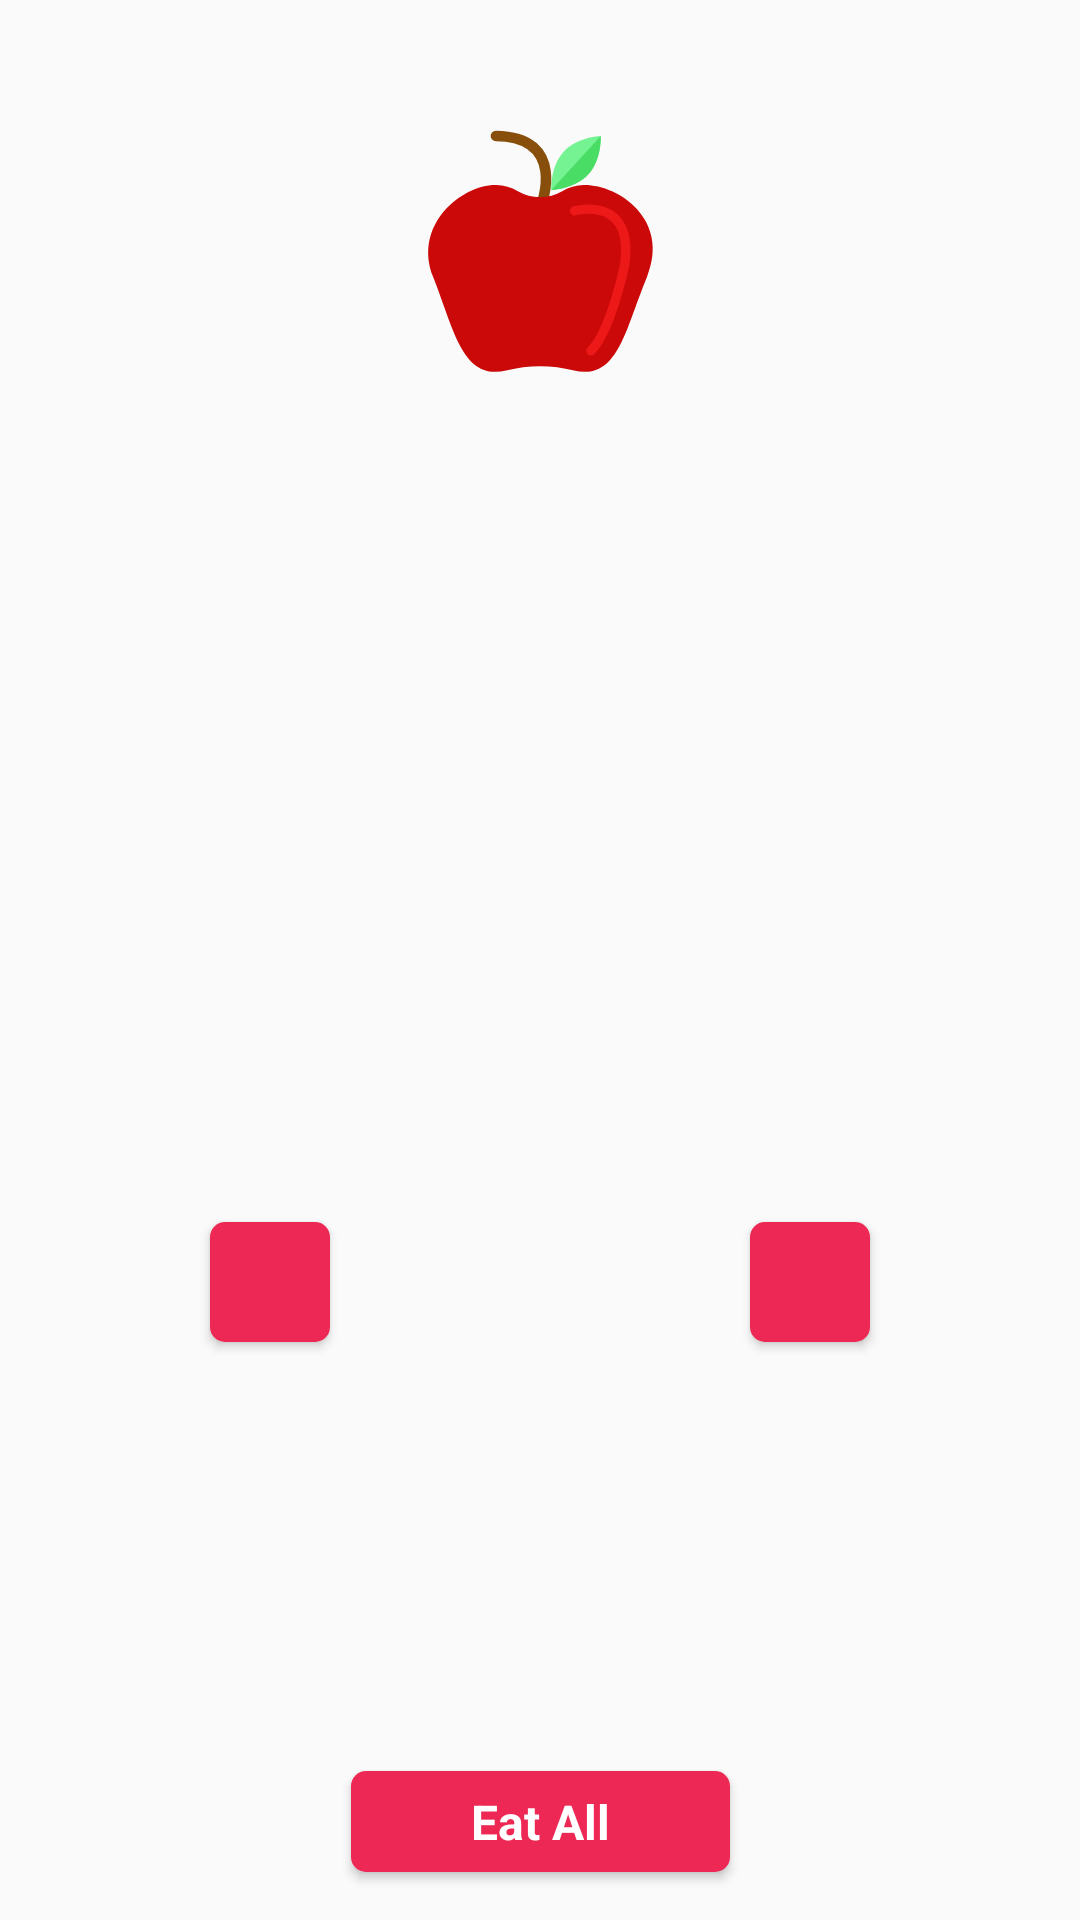

Named icons in this screenshot (1080×1920) and their bounding boxes, rect(x1, y1, x2, y2):
food: rect(428, 130, 653, 372)
